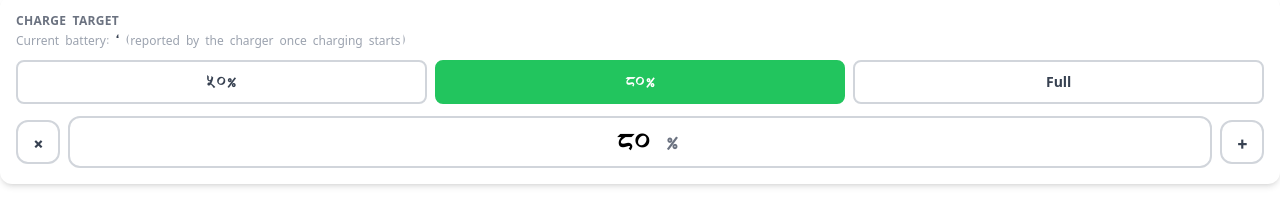
it: ChargeTargetCard › clamps an out-of-range typed number
Replace the text in the number field named "Target battery %" with "250": (633,142) [601,126,665,158]
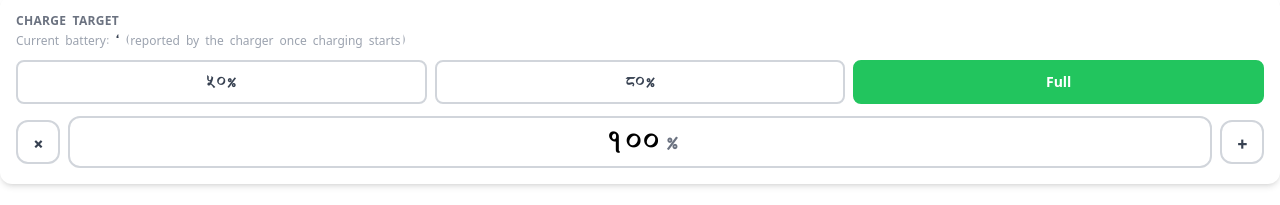
Expected: the number field named "Target battery %" holds "100", [601,126,665,158]
